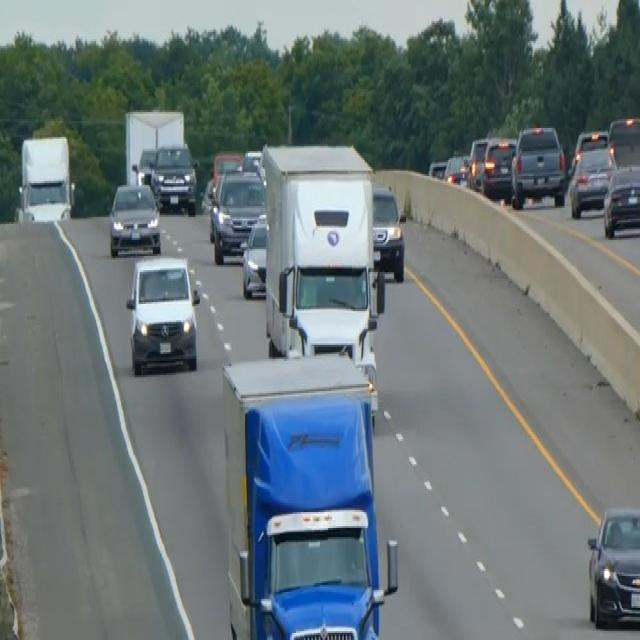car: (585, 503, 639, 629), (209, 167, 265, 263), (510, 123, 566, 208), (108, 180, 161, 256), (150, 142, 198, 215), (568, 144, 616, 217), (371, 181, 405, 281), (602, 162, 639, 238), (240, 213, 268, 299), (481, 135, 516, 199), (606, 114, 639, 167), (572, 126, 608, 166), (211, 148, 243, 192), (466, 135, 489, 189), (133, 146, 157, 187), (443, 153, 468, 185), (242, 148, 262, 176), (427, 156, 447, 180)
lorry: (220, 350, 398, 636), (259, 140, 385, 374), (16, 132, 75, 224)
minivan: (125, 253, 200, 375)
